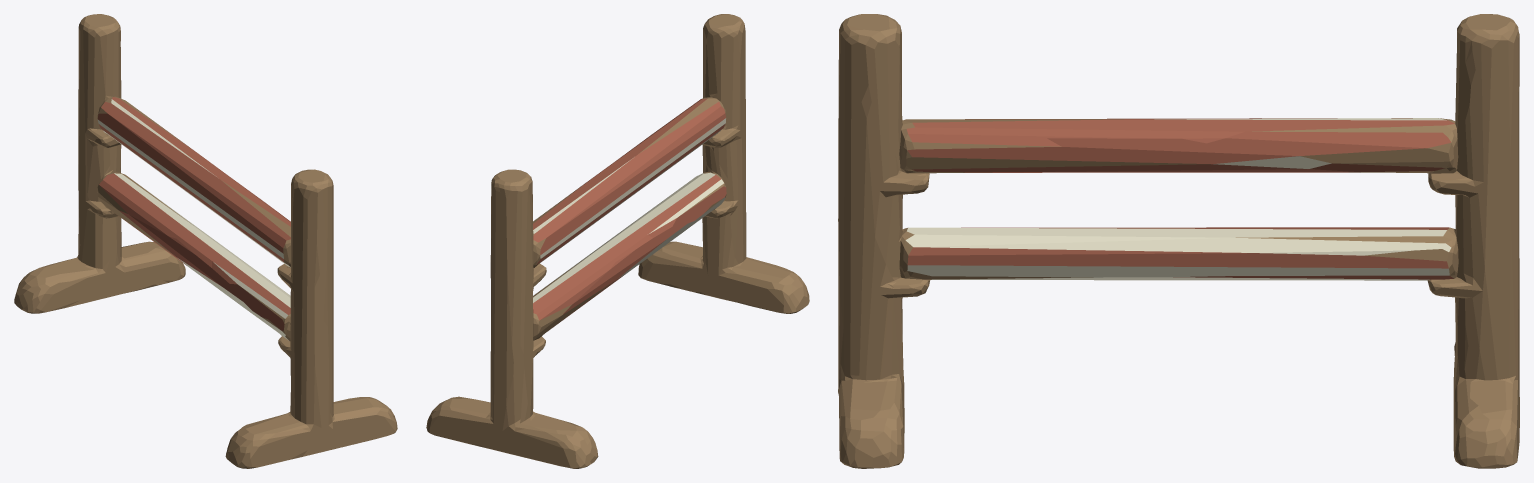
File: ENV_09_HURDLE_game.glb
The picture shows the model from 3 angles, left to right: view 1: azimuth 30°, elevation 25°; view 2: azimuth 150°, elevation 25°; view 3: azimuth 270°, elevation 25°; orthographic projection. The views are drawn at different scales.
Visible parts, largest first — view 1: ENV_09_HURDLE; view 2: ENV_09_HURDLE; view 3: ENV_09_HURDLE.
Part boxes in pixels (left/top/right/bottom): ENV_09_HURDLE: left=14, top=14, right=397, bottom=468; ENV_09_HURDLE: left=426, top=14, right=809, bottom=468; ENV_09_HURDLE: left=838, top=14, right=1519, bottom=468.
Bounding box in the file's own units: 1.01 × 1.6 × 2.53.
